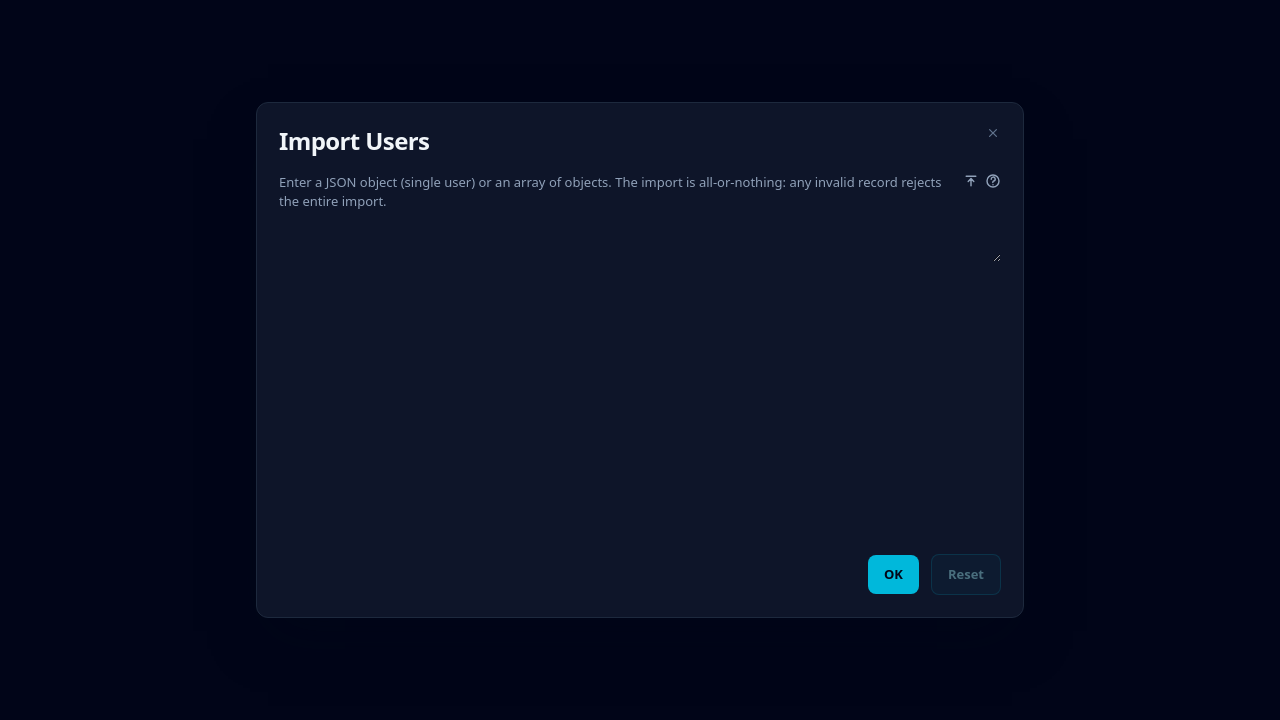
Test: ImportDialog › shows user samples in users mode
Click the button named "Show import samples" at (993, 181), box [985,173,1001,189]
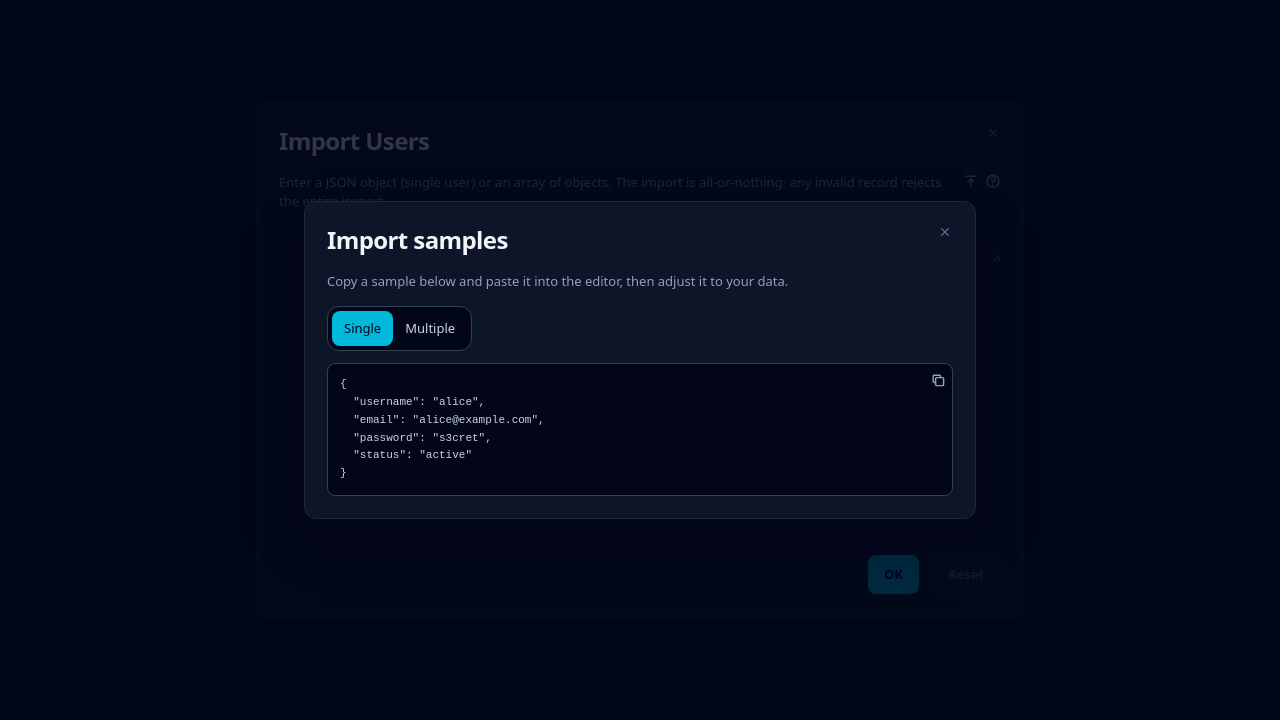
Now the button named "Copy Single user sample" is shown, box [930,372,946,388]
Click the button "Multiple" at (430, 329), box [393,311,467,346]
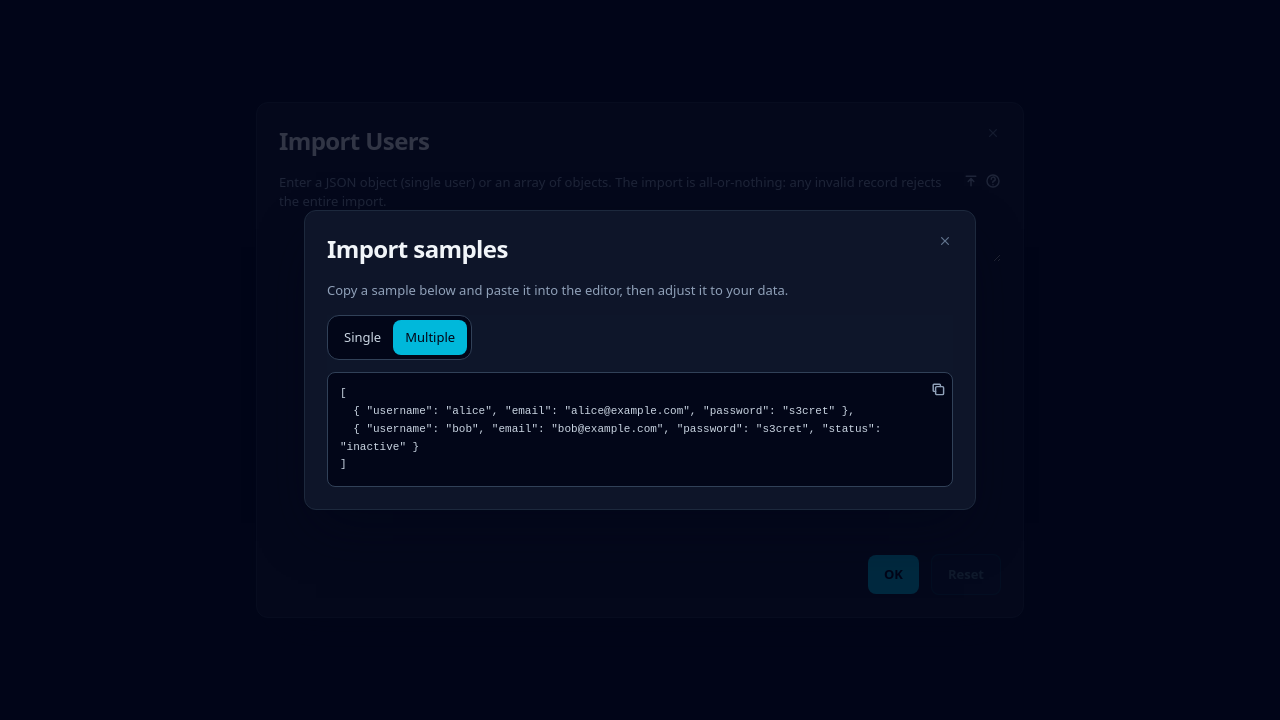
Now the button named "Copy Multiple users sample" is shown, box [930,381,946,397]
